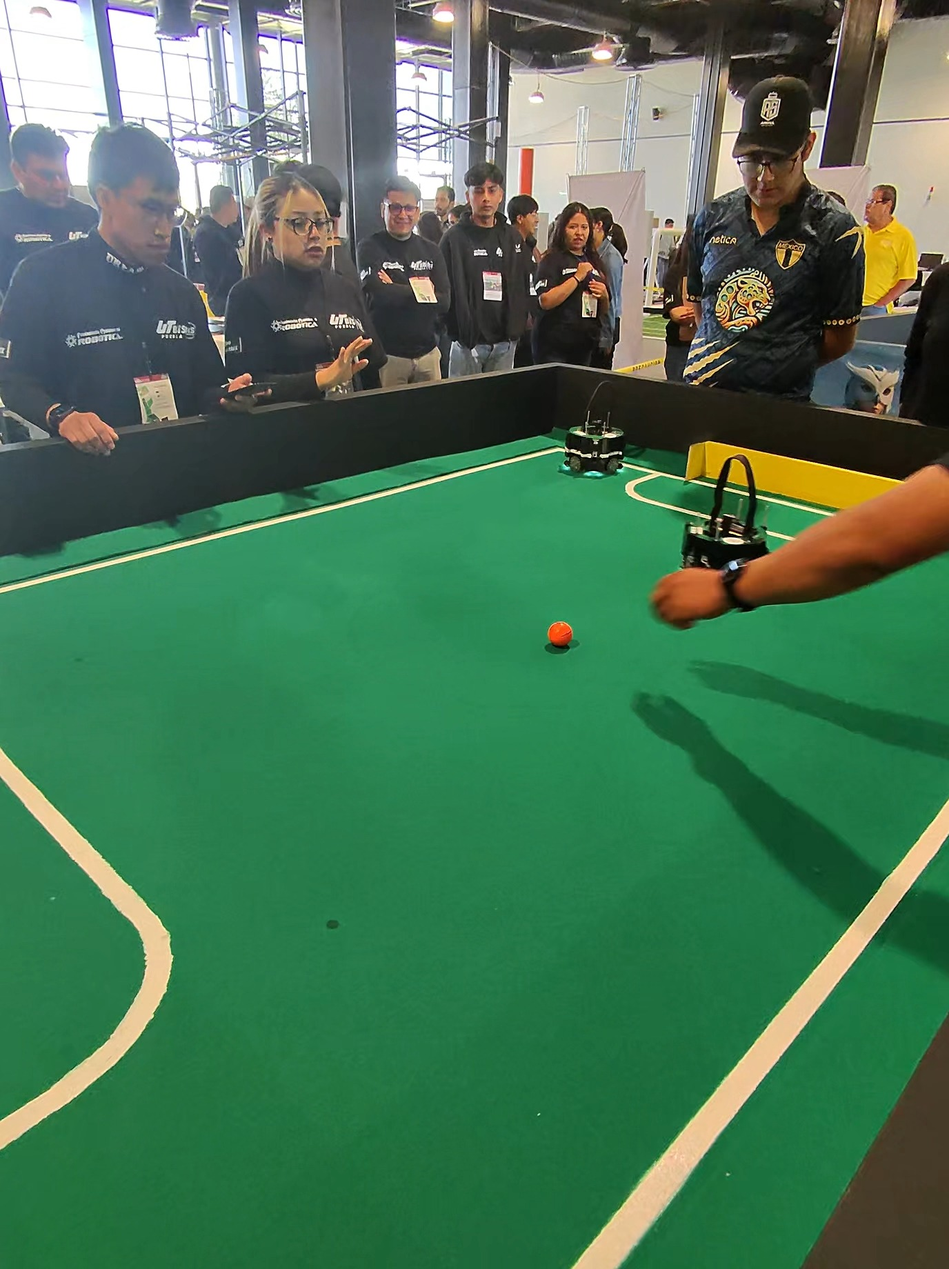Robot: (674, 449, 783, 600), (559, 368, 631, 502)
pelota: (533, 603, 565, 666)
